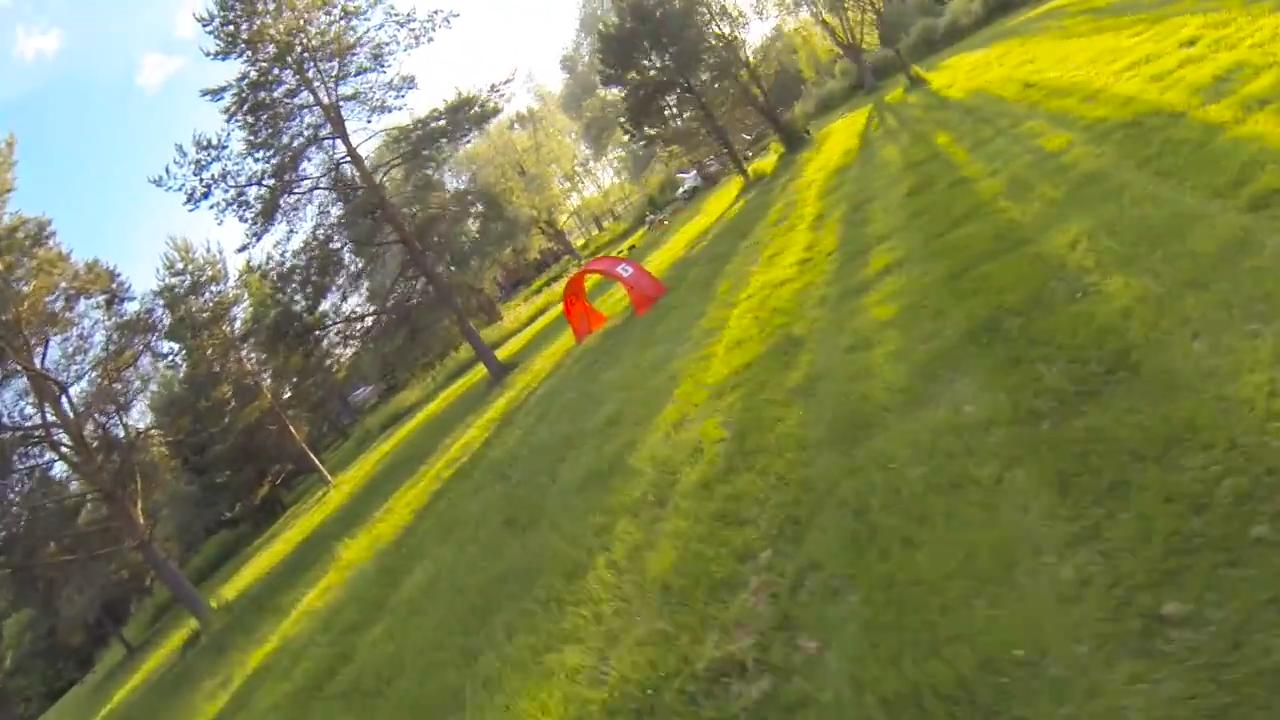gate: (559, 256, 671, 343)
